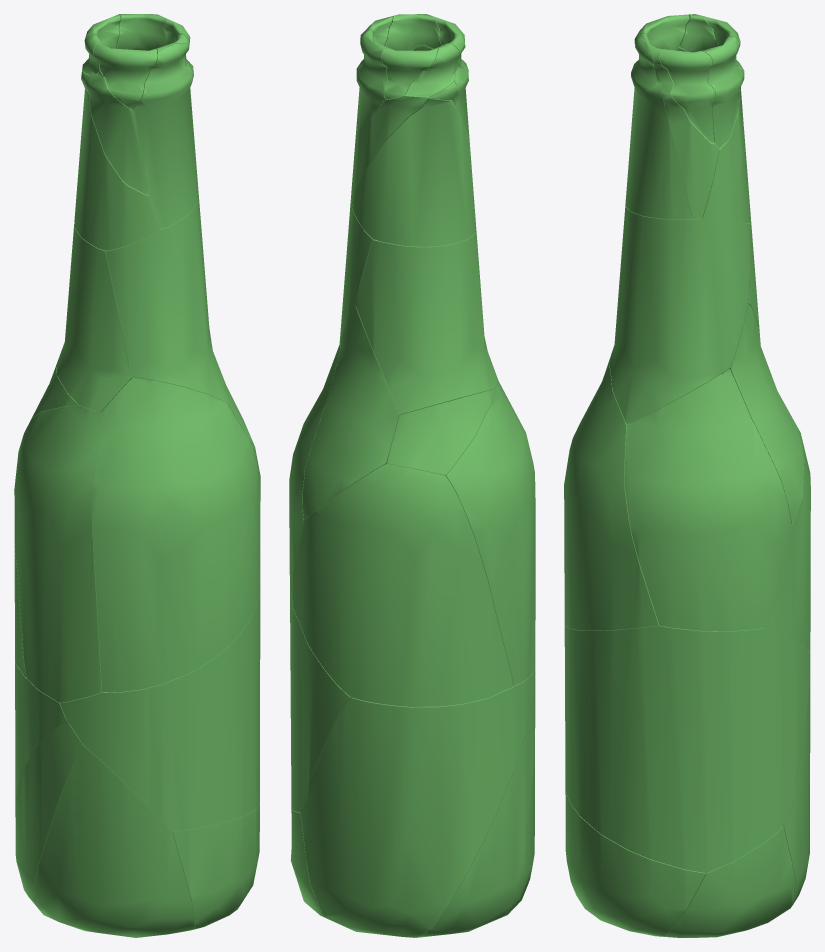
The model's file is ShardsGlassBottle5.fbx.
3 renders of one model, left to right at view 1: azimuth 30°, elevation 25°; view 2: azimuth 150°, elevation 25°; view 3: azimuth 270°, elevation 25°, orthographic.
Visible parts, largest first — view 1: Circle_cell.021, Circle_cell.013, Circle_cell.004, Circle_cell.001, Circle_cell.005, Circle_cell.007, Circle_cell.018, Circle_cell.020, Circle_cell.016, Circle_cell.006, Circle_cell.010, Circle_cell.015 (+5 smaller); view 2: Circle_cell.015, Circle_cell.023, Circle_cell.007, Circle_cell.004, Circle_cell.016, Circle_cell.008, Circle_cell.006, Circle_cell.013, Circle_cell.003, Circle_cell.022, Circle_cell.009, Circle_cell (+9 smaller); view 3: Circle_cell.013, Circle_cell.022, Circle_cell.005, Circle_cell.021, Circle_cell.020, Circle_cell.019, Circle_cell.018, Circle_cell.008, Circle_cell.023, Circle_cell.024, Circle_cell.002, Circle_cell.015 (+7 smaller).
Boxes of the visible parts, <box> form: Circle_cell.021: <box>92,377,260,692</box>; Circle_cell.013: <box>59,576,260,831</box>; Circle_cell.004: <box>14,405,101,702</box>; Circle_cell.001: <box>35,745,194,937</box>; Circle_cell.005: <box>105,191,226,402</box>; Circle_cell.007: <box>56,220,133,412</box>; Circle_cell.018: <box>133,43,198,228</box>; Circle_cell.020: <box>172,803,259,929</box>; Circle_cell.016: <box>74,86,160,250</box>; Circle_cell.006: <box>15,721,84,908</box>; Circle_cell.010: <box>85,71,148,194</box>; Circle_cell.015: <box>15,660,68,816</box>; Circle_cell.015: <box>300,672,534,937</box>; Circle_cell.023: <box>291,464,513,706</box>; Circle_cell.007: <box>355,232,497,414</box>; Circle_cell.004: <box>440,381,535,685</box>; Circle_cell.016: <box>352,98,476,246</box>; Circle_cell.008: <box>302,306,400,520</box>; Circle_cell.006: <box>416,685,535,937</box>; Circle_cell.013: <box>290,590,535,812</box>; Circle_cell.003: <box>387,389,494,474</box>; Circle_cell.022: <box>289,344,340,594</box>; Circle_cell.009: <box>351,94,434,202</box>; Circle_cell: <box>356,30,388,130</box>; Circle_cell.013: <box>564,625,810,872</box>; Circle_cell.022: <box>624,368,791,631</box>; Circle_cell.005: <box>609,205,749,424</box>; Circle_cell.021: <box>564,356,659,630</box>; Circle_cell.020: <box>565,782,705,936</box>; Circle_cell.019: <box>661,825,795,937</box>; Circle_cell.018: <box>625,34,692,219</box>; Circle_cell.008: <box>729,304,804,524</box>; Circle_cell.023: <box>764,423,810,652</box>; Circle_cell.024: <box>641,33,718,218</box>; Circle_cell.002: <box>659,49,715,142</box>; Circle_cell.015: <box>783,668,810,905</box>.
Size of the model in its own units: 94.72 by 365 by 94.72.
